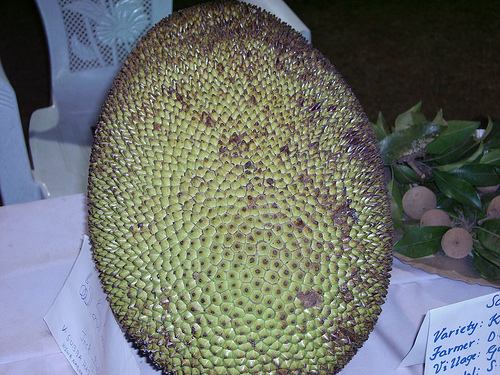jackfruit: (86, 0, 396, 374)
